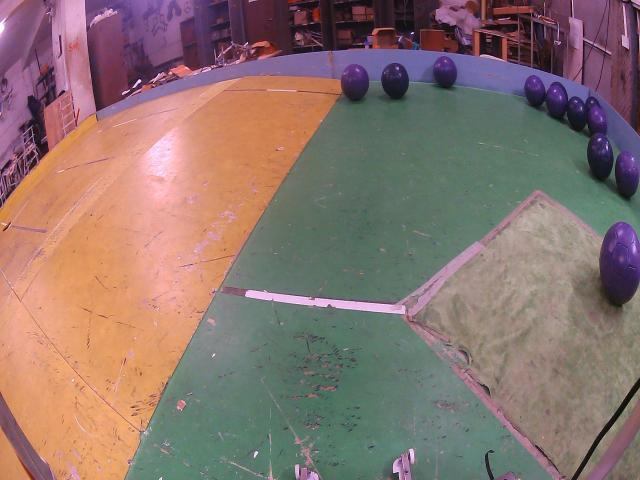jambhalya: (600, 222, 640, 305), (615, 150, 639, 198), (341, 63, 369, 100), (432, 57, 458, 88), (545, 85, 568, 118), (524, 75, 546, 107), (588, 107, 608, 137)
kaalyya: (588, 133, 614, 180), (381, 63, 409, 98), (566, 97, 588, 130), (585, 95, 600, 112)
